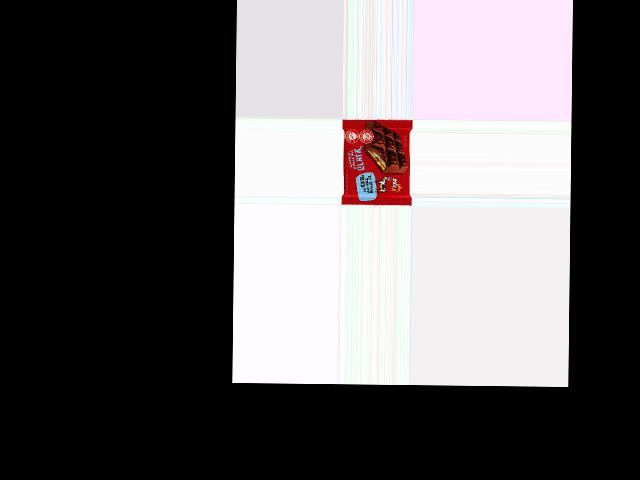chocolate: (340, 120, 411, 202)
